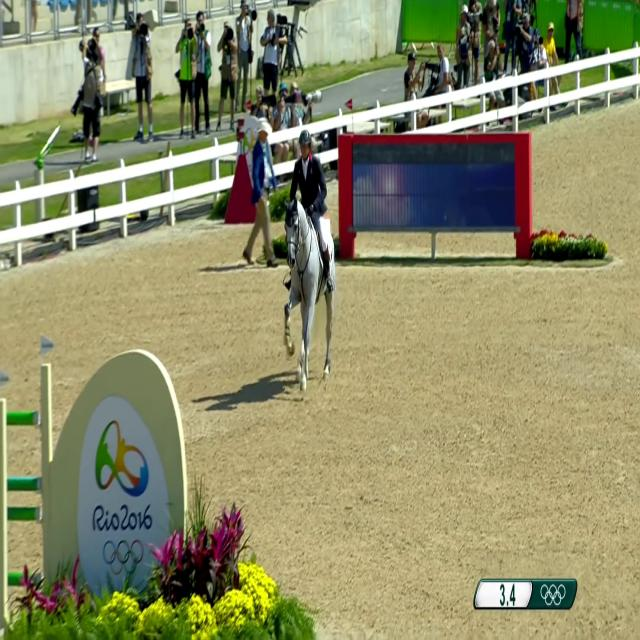Horse Rider: (298, 123, 330, 224)
Horse Running: (273, 172, 356, 389)
